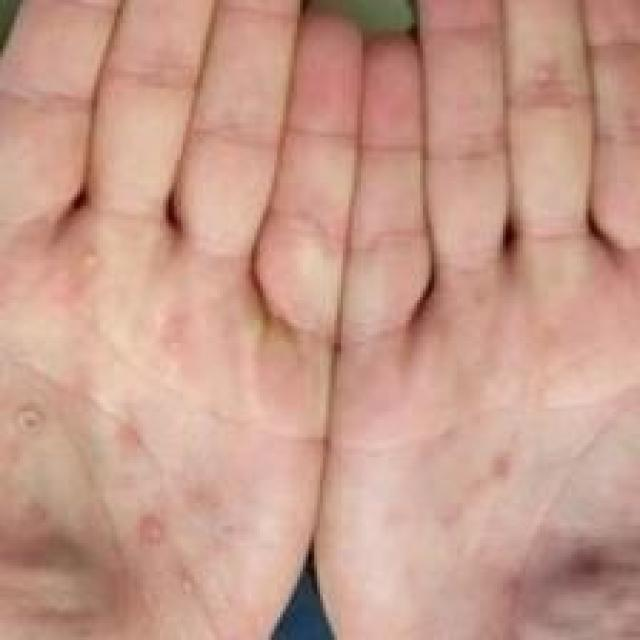monkeypox: (9, 53, 638, 640)
